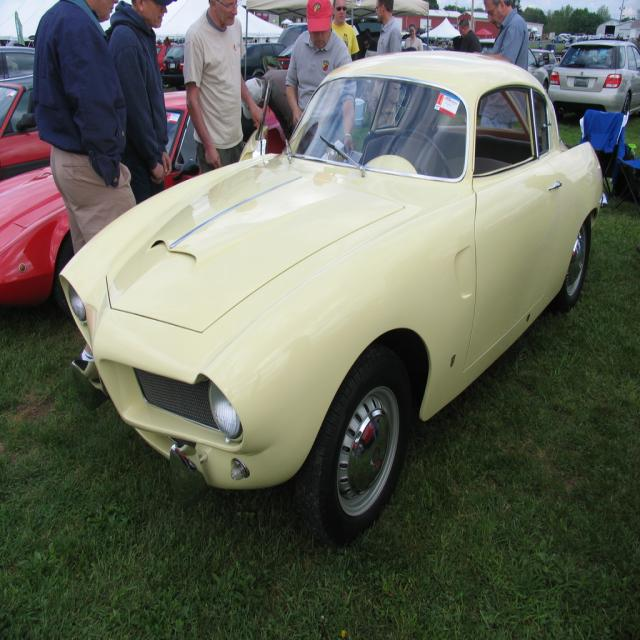car: (49, 45, 620, 532)
